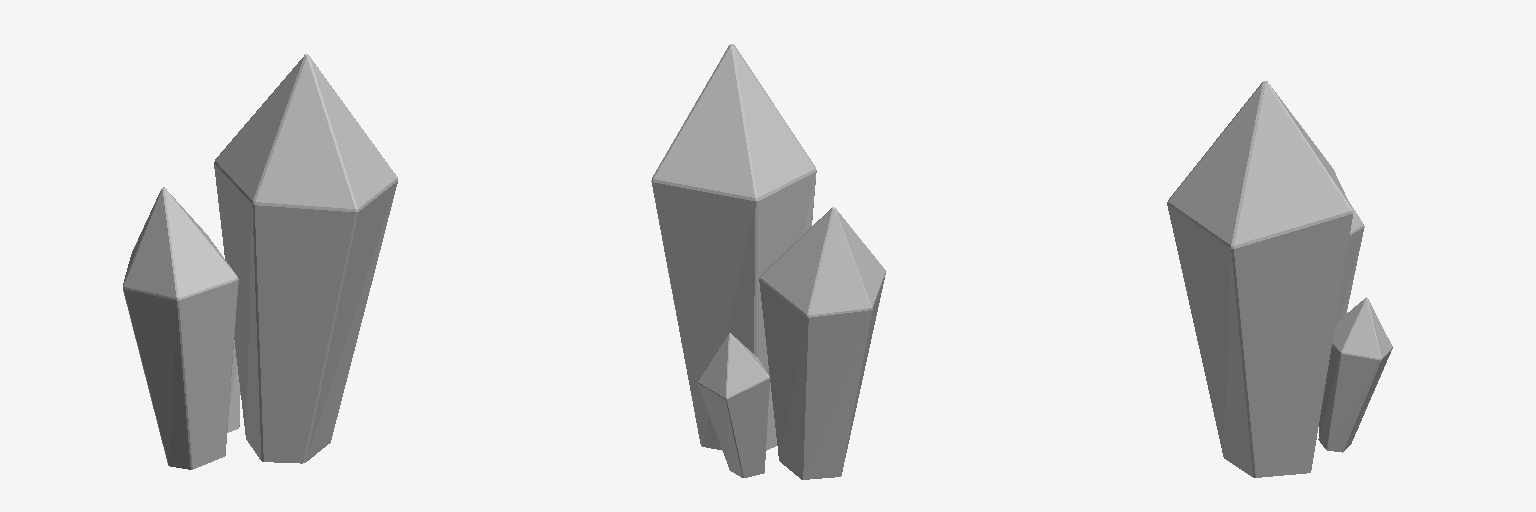
Rendered from Cristales.obj.
3 views of the same model, side by side, from view 1: azimuth 30°, elevation 25°; view 2: azimuth 150°, elevation 25°; view 3: azimuth 270°, elevation 25° (orthographic).
Parts seen in each view (by area): view 1: Box001; view 2: Box001; view 3: Box001.
Boxes of the visible parts, x1,y1,x2,y2 form: Box001: [123, 54, 397, 469]; Box001: [651, 44, 885, 479]; Box001: [1167, 81, 1392, 477].
Size of the model in its own units: 2.89 by 4.56 by 2.38.